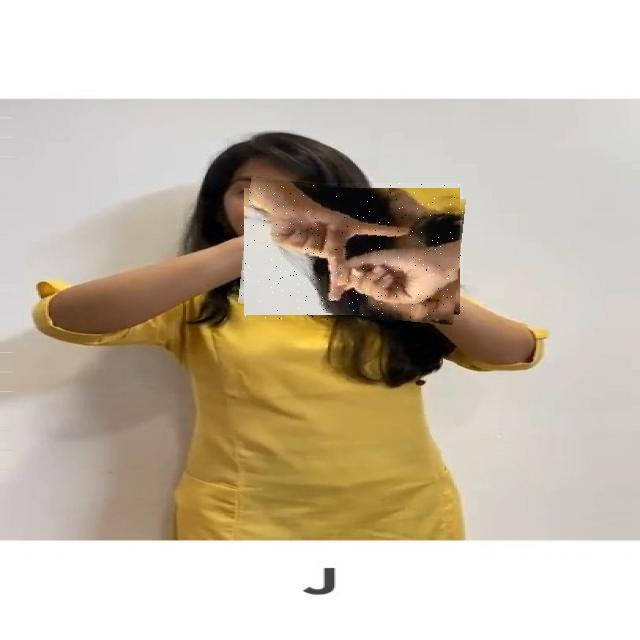J: (241, 183, 463, 320)
